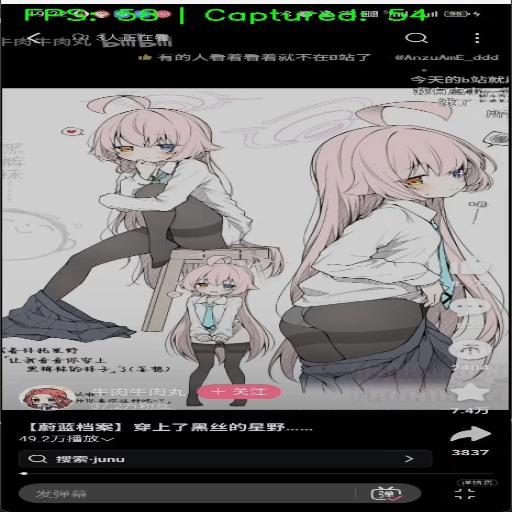back: (14, 23, 57, 47)
butten: (446, 290, 506, 340), (439, 479, 500, 504)
input: (12, 479, 428, 504)
